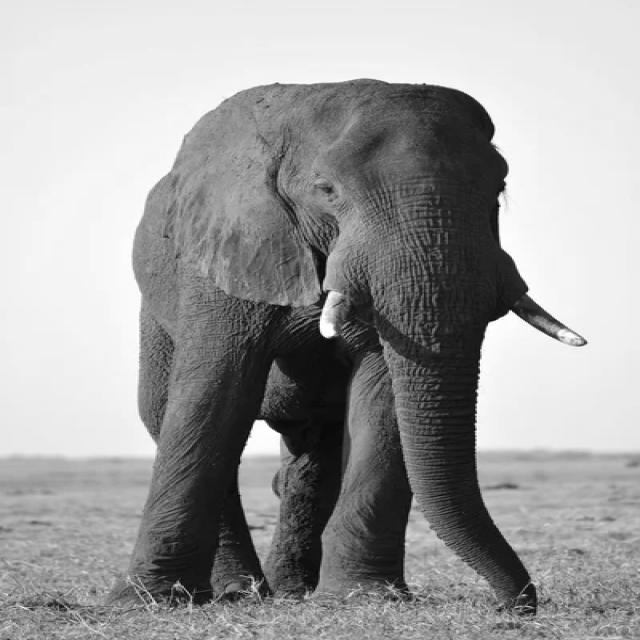Animal: (109, 80, 586, 612)
